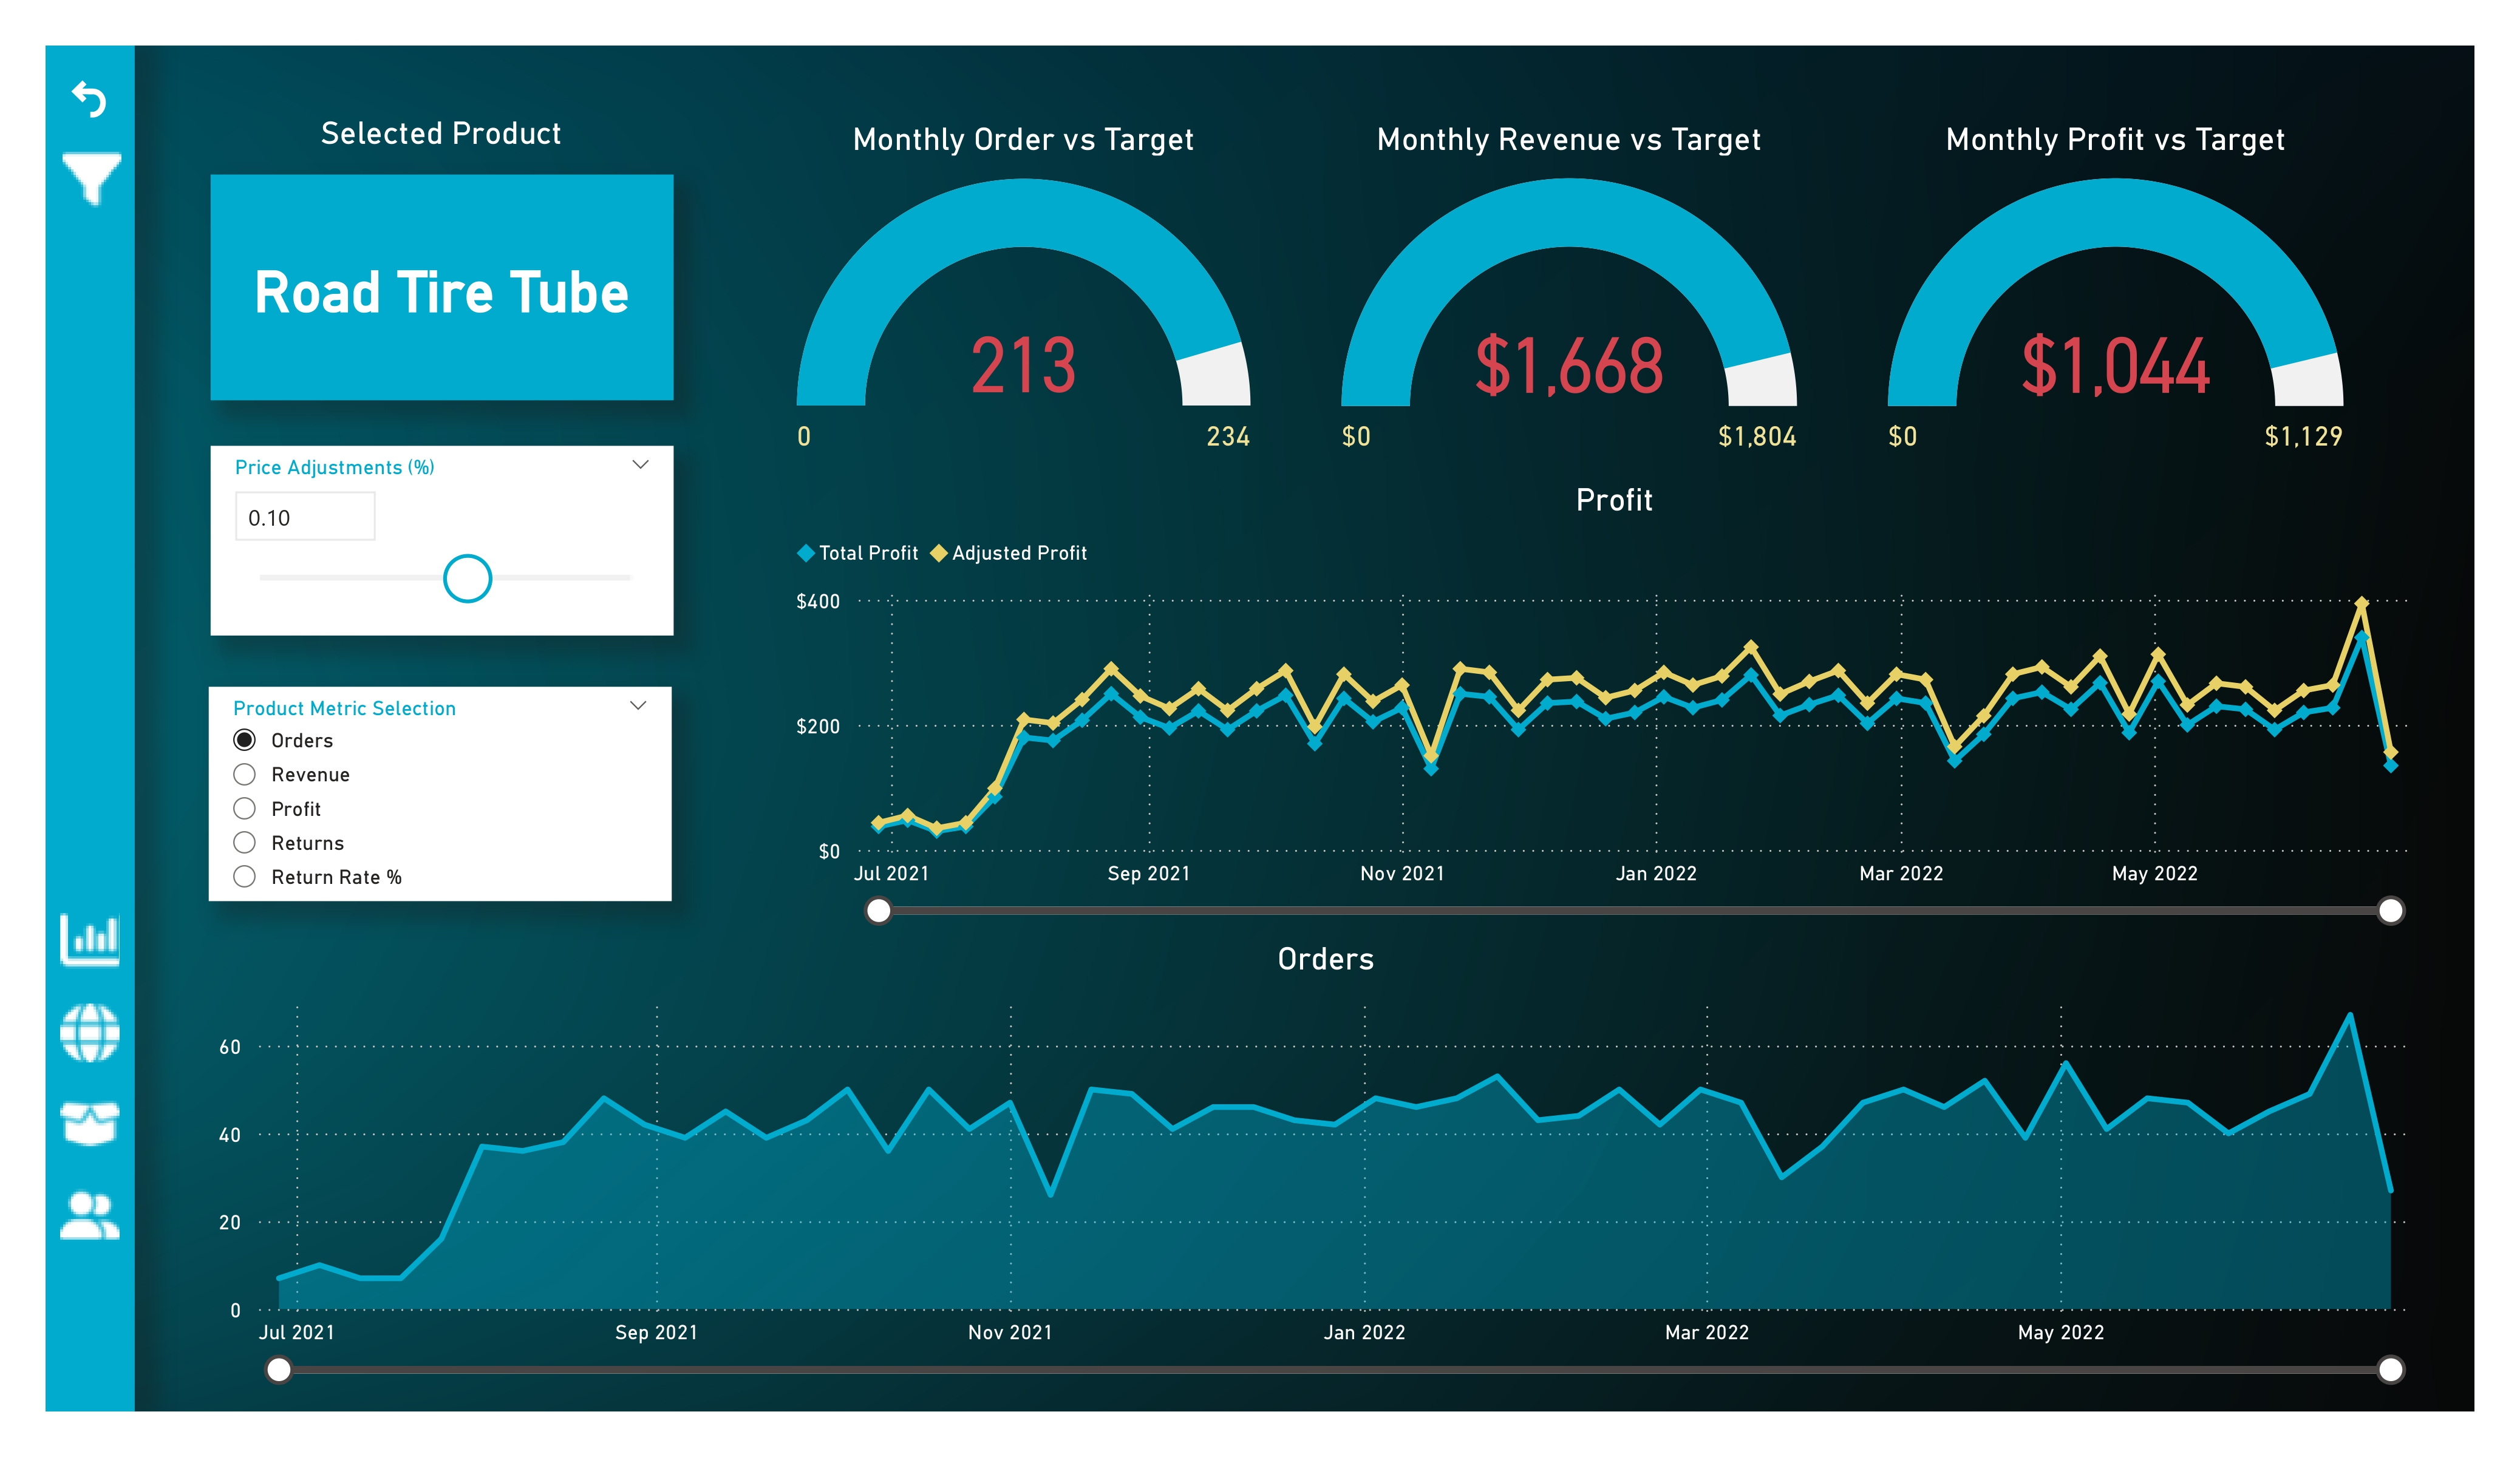

What the dashboard file says about the page in this screenshot:
{"tool":"powerbi","page":{"name":"Product Details","canvas":[1280,720],"ordinal":2},"visuals":[{"type":"textbox","box":[139.7,31.5,153.5,31.5],"z":0},{"type":"shape","box":[0,0,47.5,719.9],"z":1000},{"type":"gauge","title":"Monthly Order vs Target","fields":{"Y":["Measure Calculations.Total Orders"],"MaxValue":["Measure Calculations.Order Target"]},"box":[390.6,39.4,249.9,188.9],"z":2000},{"type":"gauge","title":"Monthly Revenue vs Target","fields":{"Y":["Measure Calculations.Total Revenue"],"MaxValue":["Measure Calculations.Revenue Target"]},"box":[678.4,39.4,249.9,188.9],"z":3000},{"type":"gauge","title":"Monthly Profit vs Target","fields":{"Y":["Measure Calculations.Total Profit"],"MaxValue":["Measure Calculations.Profit Target"]},"box":[966.1,39.4,249.9,188.9],"z":4000},{"type":"lineChart","title":"Profit","fields":{"Category":["Calendar Lookup.Date Hierarchy.Year","Calendar Lookup.Date Hierarchy.Start of Month","Calendar Lookup.Date Hierarchy.Start of Week","Calendar Lookup.Date Hierarchy.Date"],"Y":["Measure Calculations.Total Profit","Measure Calculations.Adjusted Profit"]},"box":[390.4,228.7,873.4,238.2],"z":5000},{"type":"areaChart","fields":{"Y":["Measure Calculations.Total Orders"],"Category":["Calendar Lookup.Date Hierarchy.Year","Calendar Lookup.Date Hierarchy.Start of Month","Calendar Lookup.Date Hierarchy.Start of Week","Calendar Lookup.Date Hierarchy.Date"]},"box":[86.4,470.9,1177.3,238.2],"z":6000},{"type":"card","fields":{"Values":["Min(Product Lookup.ProductName)"]},"box":[86.8,68.4,244.1,119.1],"z":7000},{"type":"actionButton","box":[4.4,451.3,38.9,40.2],"z":8000},{"type":"actionButton","box":[4.4,499.5,38.9,40.2],"z":9000},{"type":"actionButton","box":[4.4,547.8,38.9,40.2],"z":10000},{"type":"actionButton","box":[4.4,596.1,38.9,40.2],"z":11000},{"type":"actionButton","box":[9.2,14.1,28.3,28.3],"z":12000},{"type":"slicer","fields":{"Values":["Price Adjustments (%) 2.Price Adjustments (%)"]},"box":[86.6,211.5,244.1,99.1],"z":13000},{"type":"slicer","fields":{"Values":["Product Metric Selection.Product Metric Selection"]},"box":[86.5,337.6,244,113.6],"z":14000},{"type":"actionButton","box":[4.7,49.6,38.9,40.2],"z":15000}]}

Visuals, with their boxes on the page's 1280x720 design canvas (x1, y1, x2, y2). These are canvas units, not pixel positions in the 2520x1457 screenshot, which may show the page scaled, cropped or inside an application window:
textbox: x1=140, y1=32, x2=293, y2=63
shape: x1=0, y1=0, x2=48, y2=720
"Monthly Order vs Target" gauge: x1=391, y1=39, x2=640, y2=228
"Monthly Revenue vs Target" gauge: x1=678, y1=39, x2=928, y2=228
"Monthly Profit vs Target" gauge: x1=966, y1=39, x2=1216, y2=228
"Profit" lineChart: x1=390, y1=229, x2=1264, y2=467
areaChart - Measure Calculations.Total Orders x Calendar Lookup.Date Hierarchy.Year: x1=86, y1=471, x2=1264, y2=709
card - Min(Product Lookup.ProductName): x1=87, y1=68, x2=331, y2=188
actionButton: x1=4, y1=451, x2=43, y2=492
actionButton: x1=4, y1=500, x2=43, y2=540
actionButton: x1=4, y1=548, x2=43, y2=588
actionButton: x1=4, y1=596, x2=43, y2=636
actionButton: x1=9, y1=14, x2=38, y2=42
slicer - Price Adjustments (%) 2.Price Adjustments (%): x1=87, y1=212, x2=331, y2=311
slicer - Product Metric Selection.Product Metric Selection: x1=86, y1=338, x2=330, y2=451
actionButton: x1=5, y1=50, x2=44, y2=90
